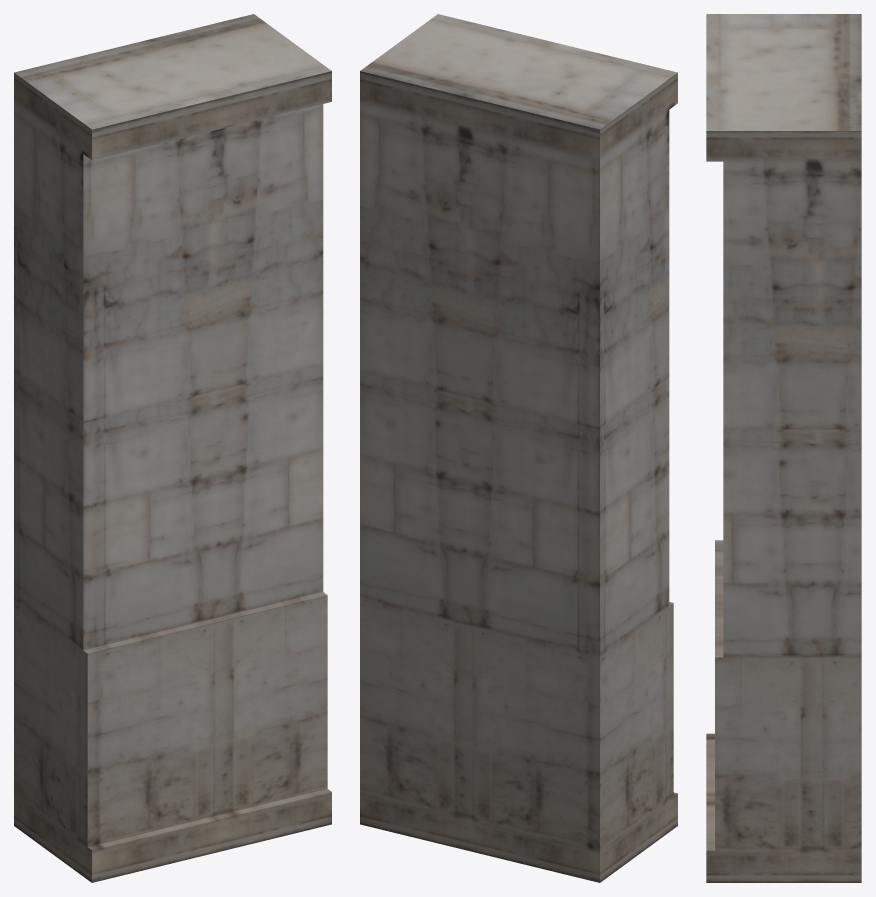
File: Narrow_Pillar.FBX
3 renders of one model, left to right at view 1: azimuth 30°, elevation 25°; view 2: azimuth 150°, elevation 25°; view 3: azimuth 270°, elevation 25°, orthographic.
Visible parts, largest first — view 1: Narrow_Pillar; view 2: Narrow_Pillar; view 3: Narrow_Pillar.
Part boxes in pixels (<box>): Narrow_Pillar: <box>14,14,331,882</box>; Narrow_Pillar: <box>360,14,677,882</box>; Narrow_Pillar: <box>706,14,861,882</box>.
Size of the model in its own units: 256 by 768 by 144.
